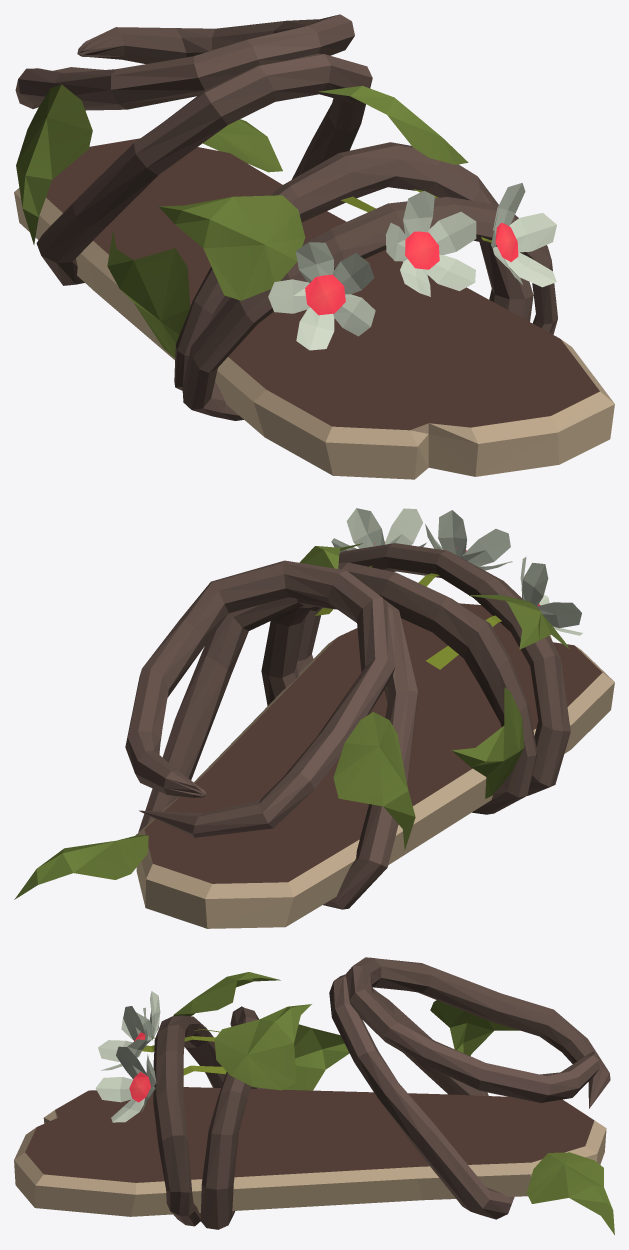
Rendered from flowerSandal.glb.
3 views of the same model, one above another, from view 1: azimuth 30°, elevation 25°; view 2: azimuth 150°, elevation 25°; view 3: azimuth 270°, elevation 25° (orthographic). The views are drawn at different scales.
Parts seen in each view (by area): view 1: flowerSandal; view 2: flowerSandal; view 3: flowerSandal.
Boxes of the visible parts, x1,y1,x2,y2 form: flowerSandal: (14, 14, 614, 479); flowerSandal: (14, 508, 614, 928); flowerSandal: (14, 957, 614, 1234).
Bounding box in the file's own units: 0.1724 × 0.1448 × 0.362.
